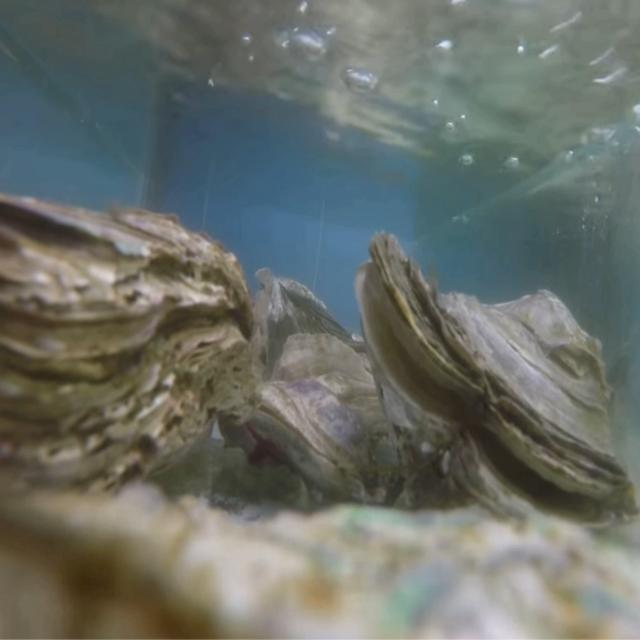Oyster-Closed: (0, 192, 254, 538), (250, 332, 410, 504)
Oyster-Indeterminate: (0, 484, 640, 640)
Oyster-Open: (355, 232, 640, 542)
